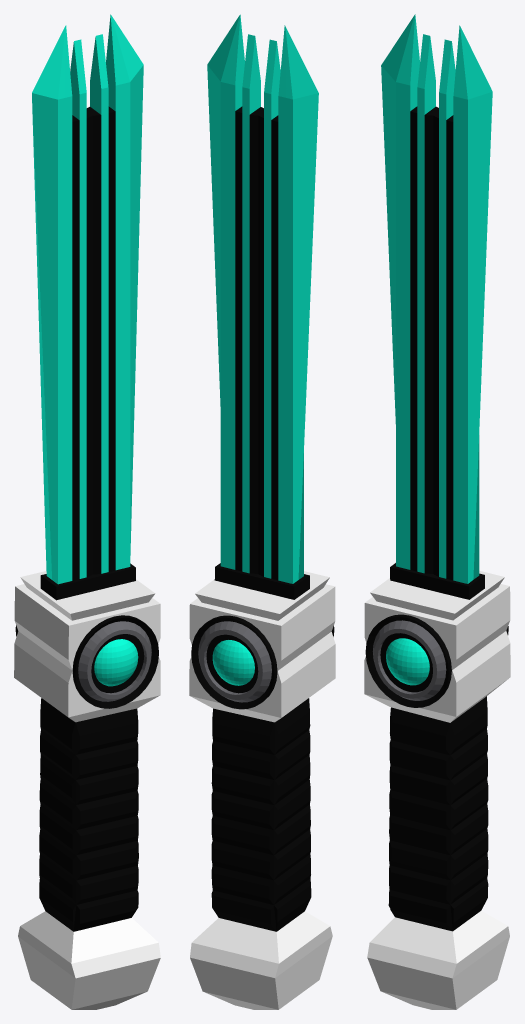
The model's file is knife Fagerone.fbx.
3 renders of one model, left to right at view 1: azimuth 30°, elevation 25°; view 2: azimuth 150°, elevation 25°; view 3: azimuth 330°, elevation 25°, orthographic.
Visible parts, largest first — view 1: Cube; view 2: Cube; view 3: Cube.
Part boxes in pixels (x1=…): Cube: x1=14, y1=14, x2=160, y2=1009; Cube: x1=189, y1=14, x2=335, y2=1009; Cube: x1=364, y1=14, x2=510, y2=1009.
Size of the model in its own units: 0.4687 by 3.91 by 0.5082.
2 materials, 2 textured.
